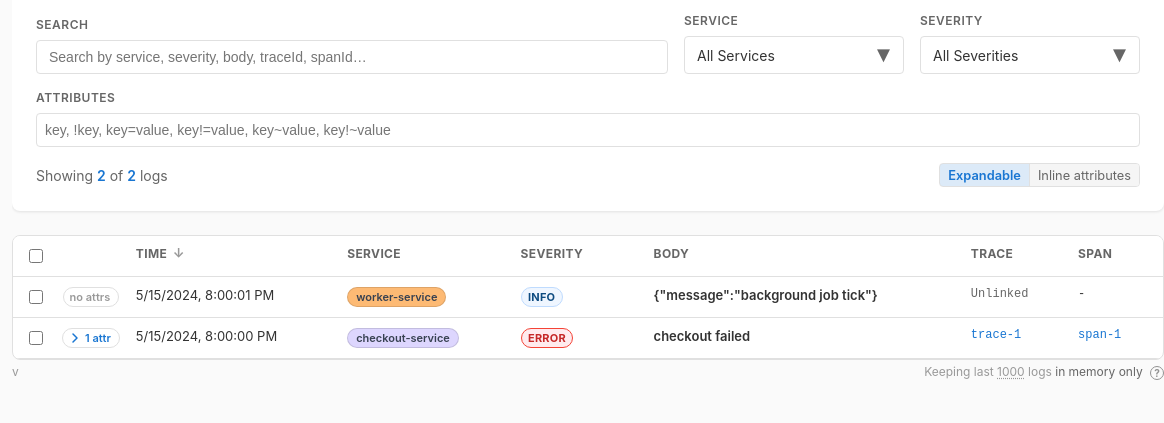
Logs › switches to inline attributes without expandable rows
Expected: the text "checkout failed" is shown, [642,318,959,358]
Expected: the number of buttons named "Show attributes" is 1, [62,328,120,348]
Click the button "Inline attributes". click: (1084, 175)
box: [1029,164,1139,186]
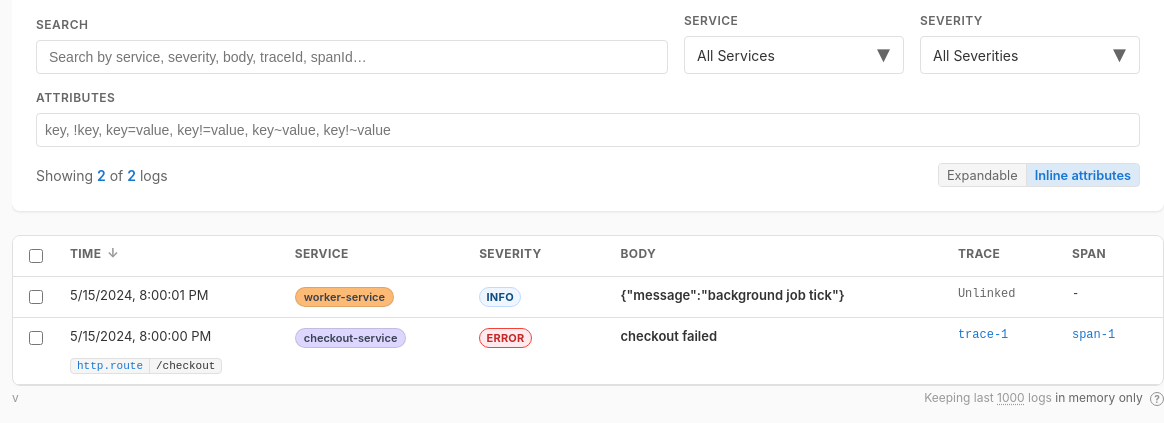
Expected: the number of rows with test id "log-inline-attributes" is 1, [13,358,1163,384]
Expected: the row with test id "log-inline-attributes" shows "http.route", [77,360,143,372]
Expected: the row with test id "log-inline-attributes" shows "/checkout", [156,360,215,372]
Click the button "Expandable". click: (982, 175)
box: [939,164,1026,186]
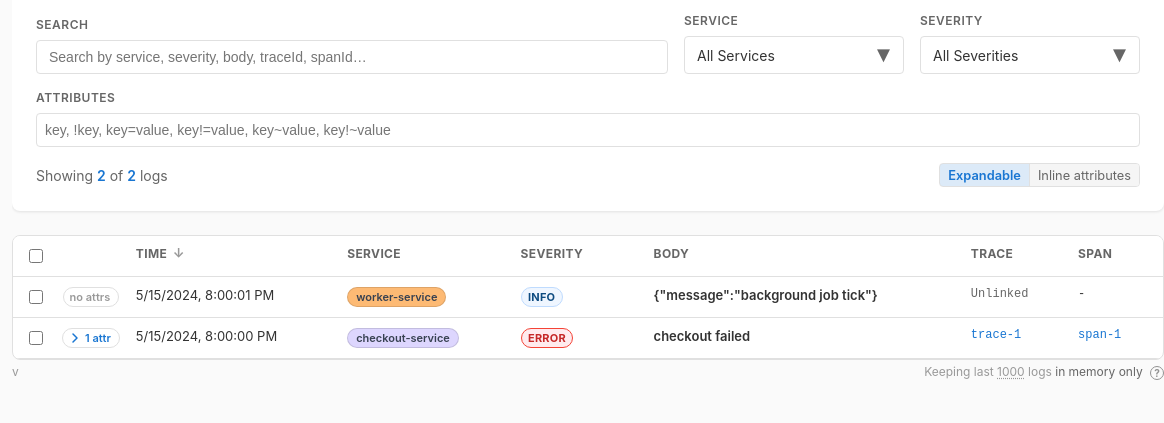
Expected: the row with test id "log-inline-attributes" is gone
